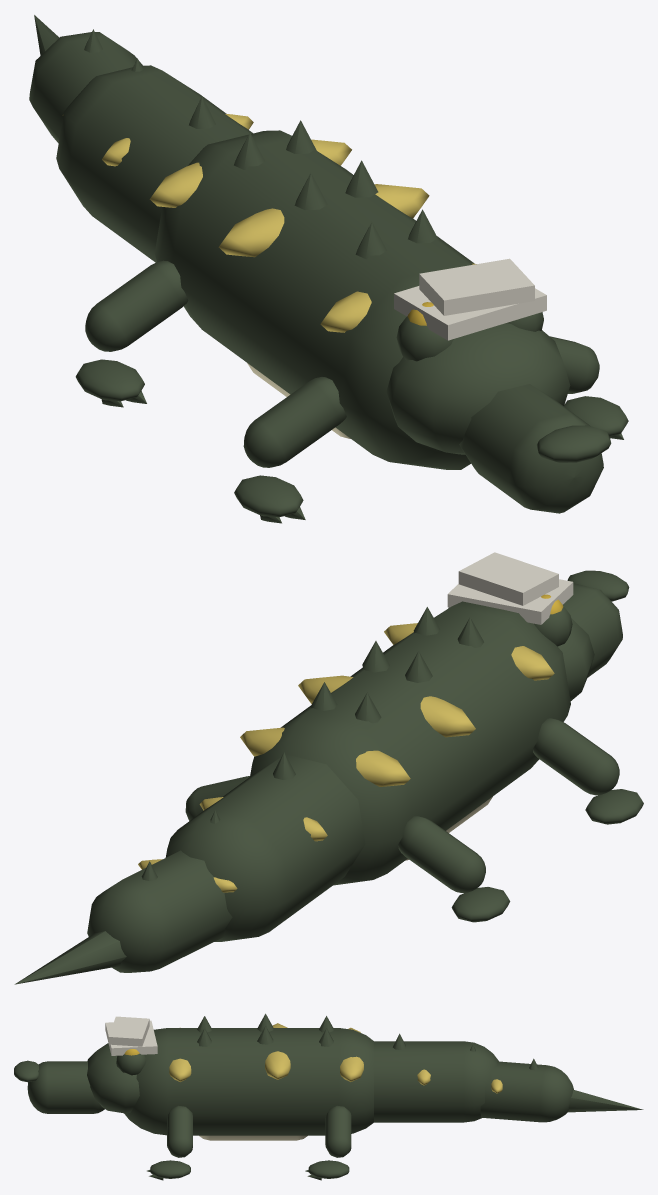
File: aller-gator.glb
The picture shows the model from 3 angles, top to bottom: view 1: azimuth 30°, elevation 25°; view 2: azimuth 150°, elevation 25°; view 3: azimuth 270°, elevation 25°; orthographic projection. The views are drawn at different scales.
Parts seen in each view (by area): view 1: hide, tailGeo, washclothGeo, legBLGeo, legFLGeo, bands, legFRGeo, tailBands; view 2: hide, tailGeo, bands, legBLGeo, legFLGeo, washclothGeo, legBRGeo, tailBands; view 3: hide, tailGeo, legBRGeo, legFRGeo, washclothGeo, bands, belly, tailBands.
Part boxes in pixels (bbox=[...]): hide: bbox=[154, 120, 611, 513]; tailGeo: bbox=[29, 15, 252, 262]; washclothGeo: bbox=[394, 258, 546, 340]; legBLGeo: bbox=[75, 260, 188, 407]; legFLGeo: bbox=[234, 377, 346, 523]; bands: bbox=[149, 139, 476, 332]; legFRGeo: bbox=[550, 336, 628, 439]; tailBands: bbox=[62, 114, 253, 166]; hide: bbox=[250, 570, 629, 885]; tailGeo: bbox=[14, 752, 365, 984]; bands: bbox=[240, 623, 554, 786]; legBLGeo: bbox=[398, 816, 510, 922]; legFLGeo: bbox=[533, 718, 643, 824]; washclothGeo: bbox=[447, 552, 573, 624]; legBRGeo: bbox=[185, 776, 249, 820]; tailBands: bbox=[138, 797, 327, 892]; hide: bbox=[14, 1013, 373, 1135]; tailGeo: bbox=[374, 1033, 643, 1122]; legBRGeo: bbox=[305, 1105, 351, 1180]; legFRGeo: bbox=[147, 1105, 192, 1180]; washclothGeo: bbox=[105, 1016, 157, 1055]; bands: bbox=[169, 1023, 363, 1081]; belly: bbox=[199, 1135, 307, 1140]; tailBands: bbox=[417, 1069, 502, 1093].
Bounding box in the file's own units: 0.18 × 0.108 × 0.5168.
